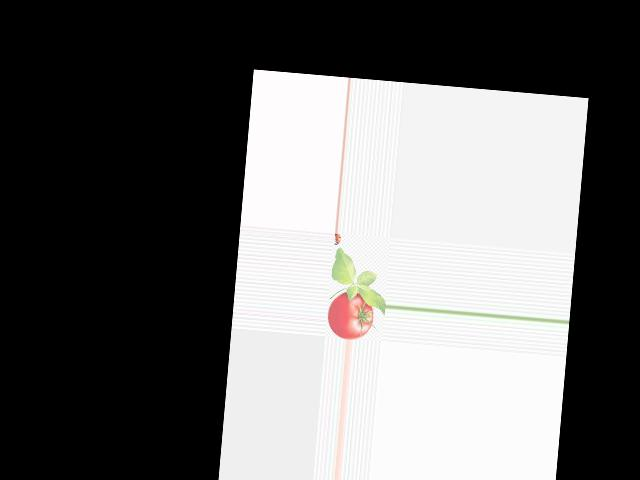tomato: (325, 290, 375, 341)
